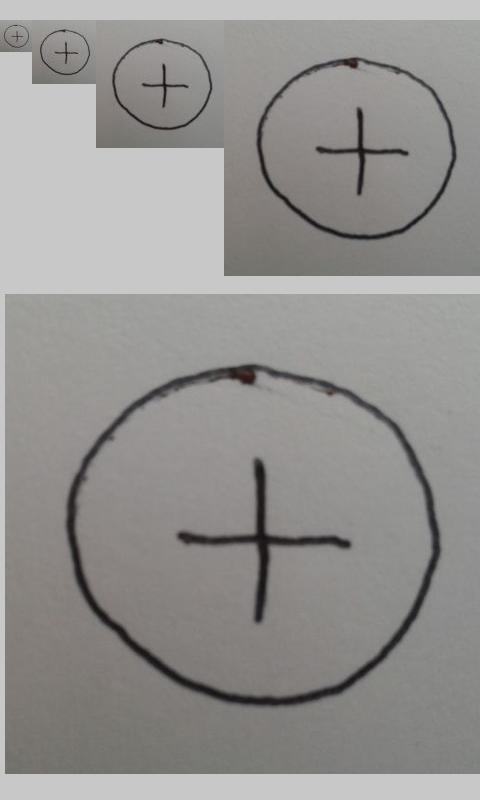button: (64, 361, 445, 709), (256, 55, 457, 241), (111, 38, 213, 130), (39, 29, 91, 76), (3, 24, 30, 48)
